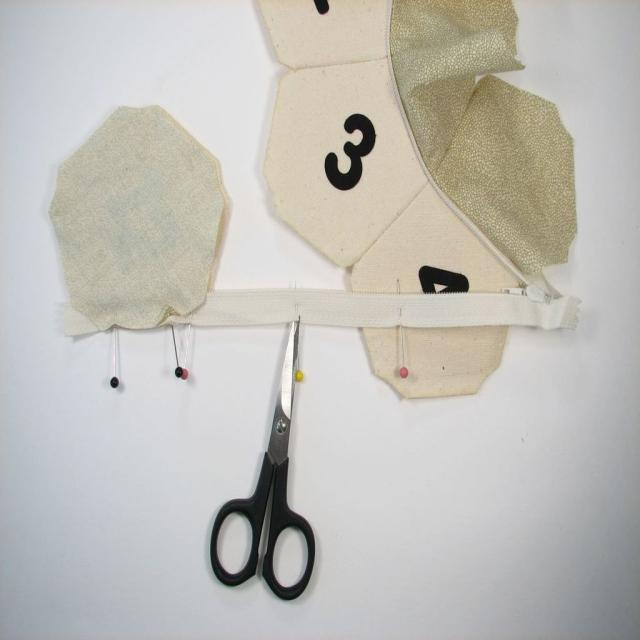scissors: (210, 316, 316, 600)
